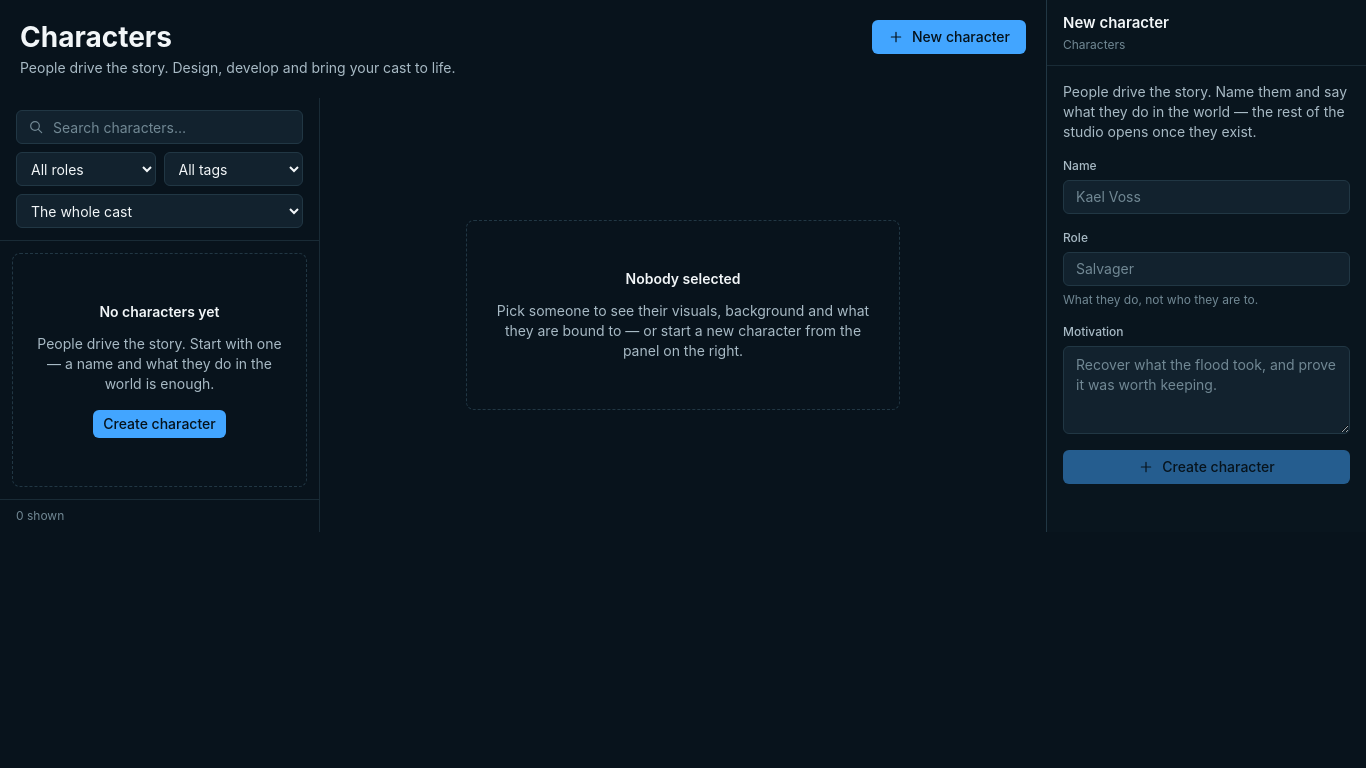
Characters workspace › has its own empty state for the archived shelf
expect the text "No characters yet" is shown: met, box [99,302,220,322]
Select "Archived" in the dropdown named "Filter by status": point(160, 211) [16,194,303,228]
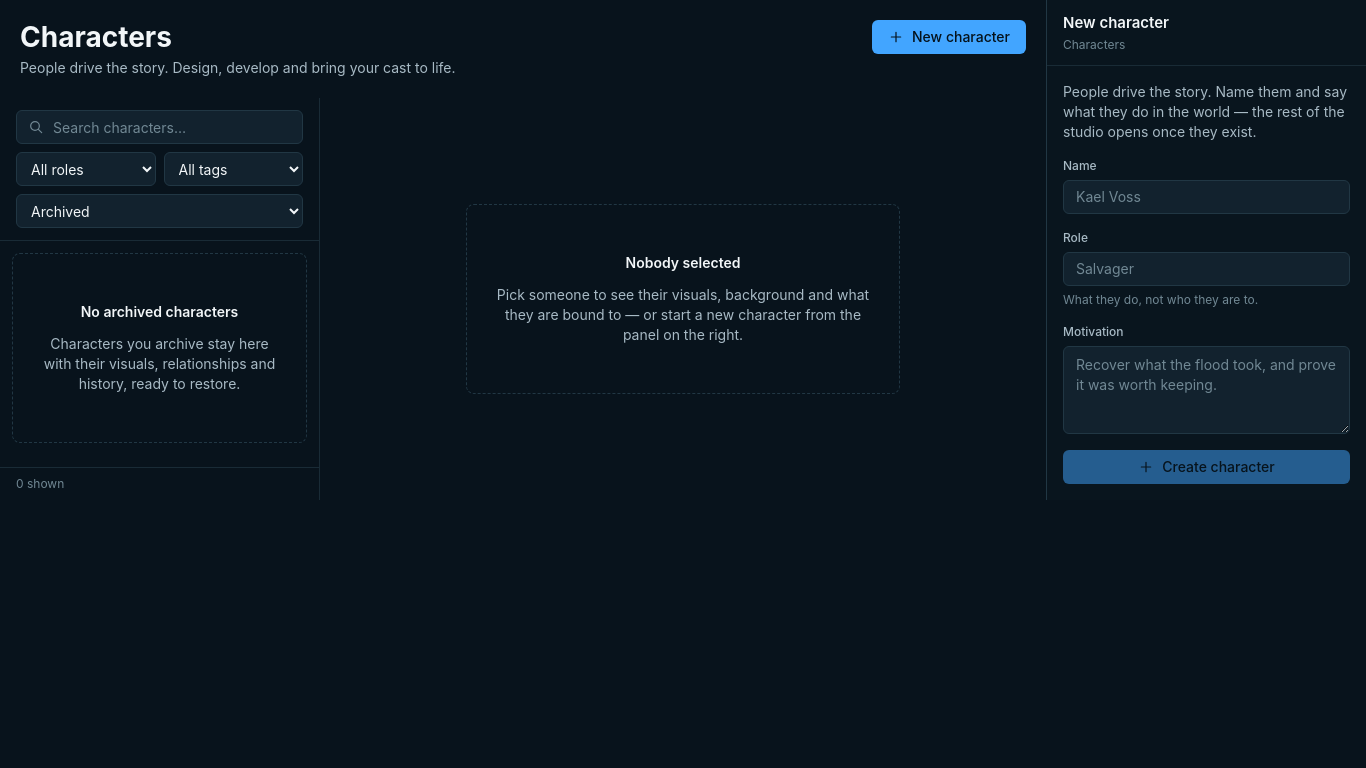
expect the text "No archived characters" is shown: met, box [81,302,238,322]
